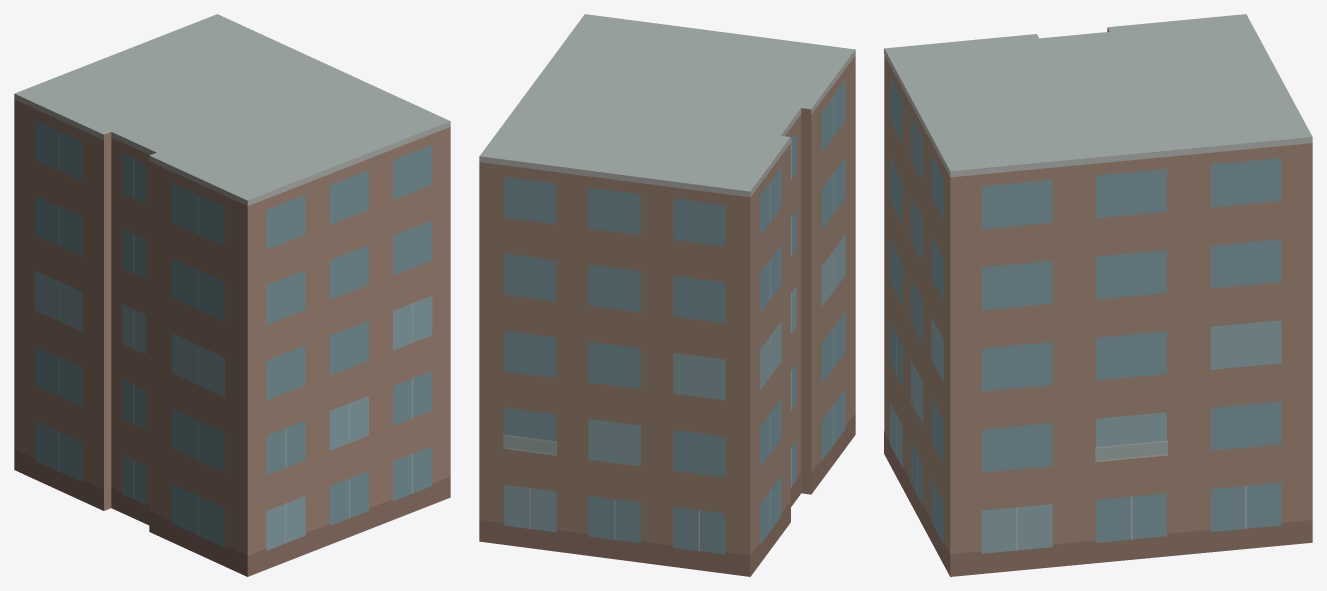
Rendered from survey-upis-32847382.glb.
The picture shows the model from 3 angles, left to right: view 1: azimuth 30°, elevation 25°; view 2: azimuth 150°, elevation 25°; view 3: azimuth 270°, elevation 25°; orthographic projection. The views are drawn at different scales.
Parts seen in each view (by area): view 1: survey-upis-32847382.tmp; view 2: survey-upis-32847382.tmp; view 3: survey-upis-32847382.tmp.
Part boxes in pixels (x1,y1,x2,y2): survey-upis-32847382.tmp: [14, 14, 450, 576]; survey-upis-32847382.tmp: [479, 14, 855, 576]; survey-upis-32847382.tmp: [884, 14, 1312, 576].
Bounding box in the file's own units: 13.57 × 16.3 × 15.62.
